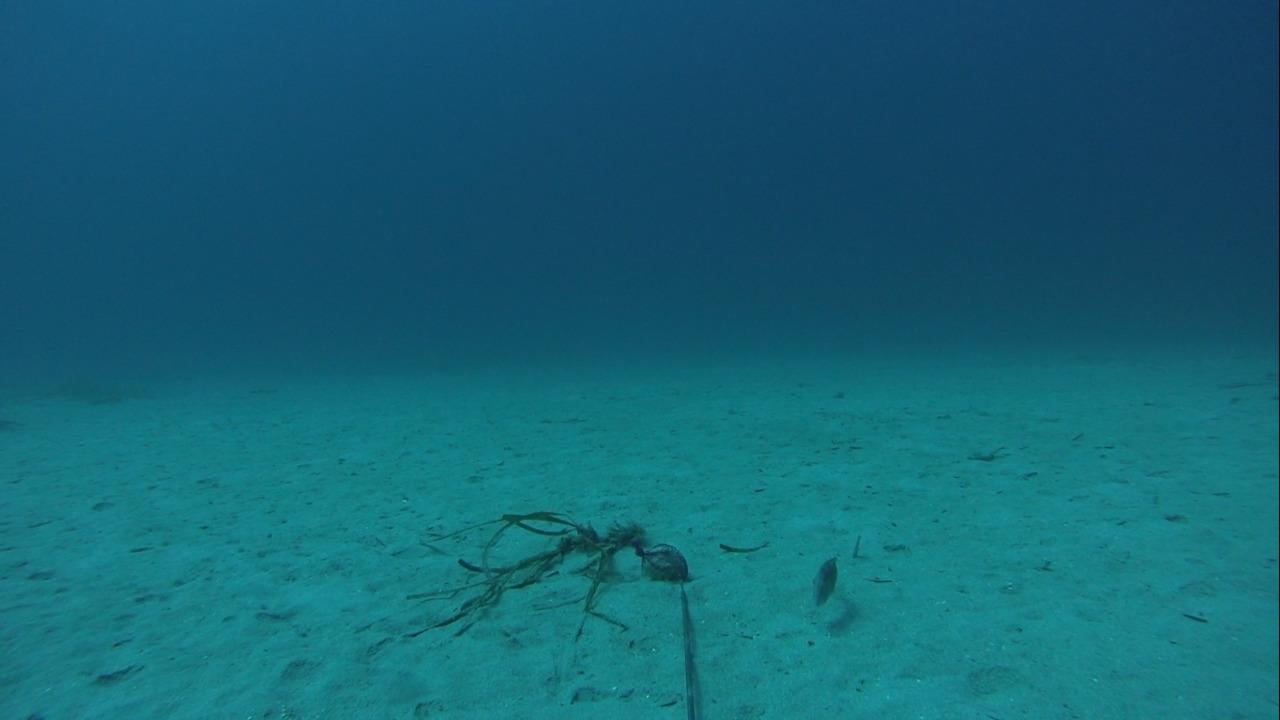raor: (802, 551, 843, 607)
